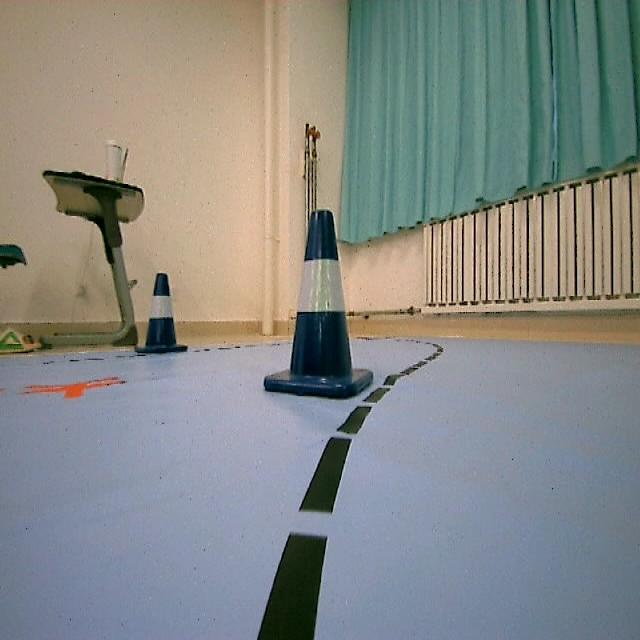obstacle: (258, 201, 359, 400), (134, 267, 189, 355)
